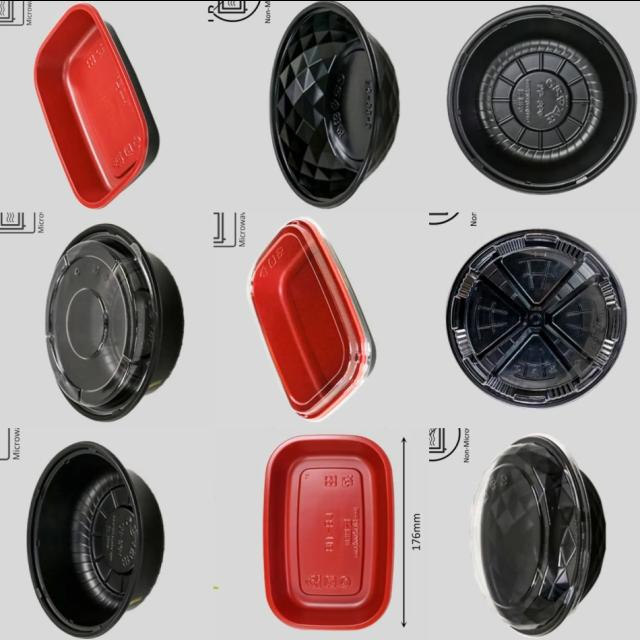plastik: (448, 5, 635, 193), (448, 230, 626, 406), (27, 441, 163, 638), (46, 223, 182, 420), (470, 436, 604, 635), (271, 1, 398, 207), (33, 2, 158, 208), (265, 434, 393, 629), (251, 217, 374, 419)
